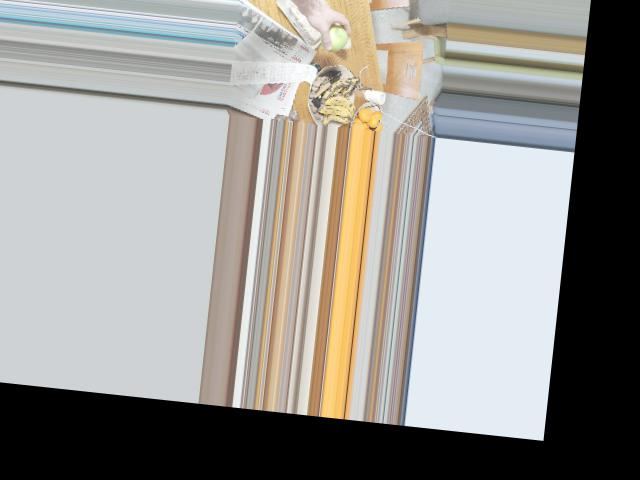apple: (312, 17, 348, 50)
